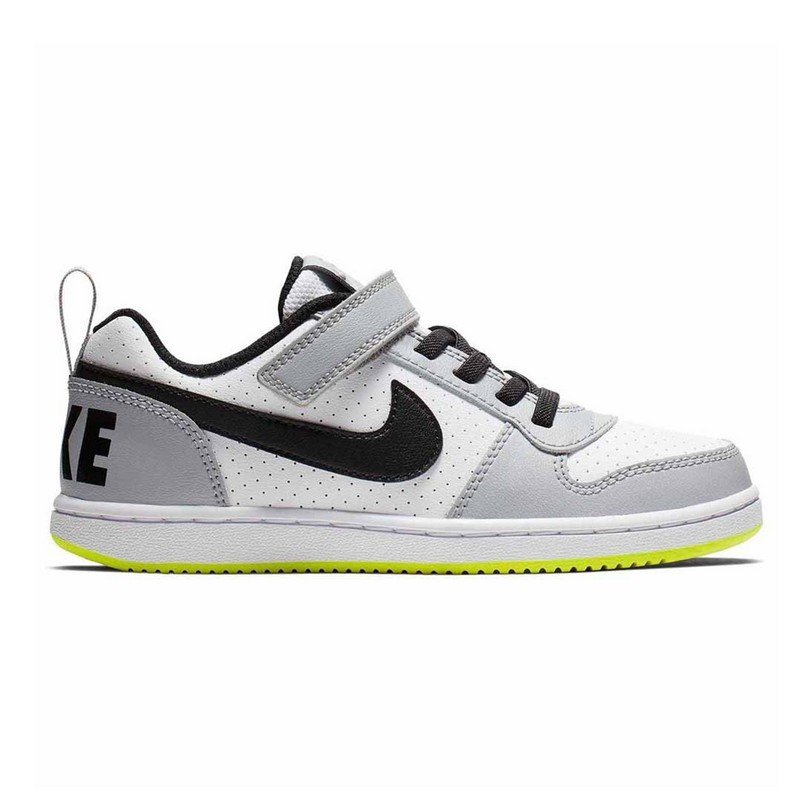nike: (196, 391, 450, 485)
